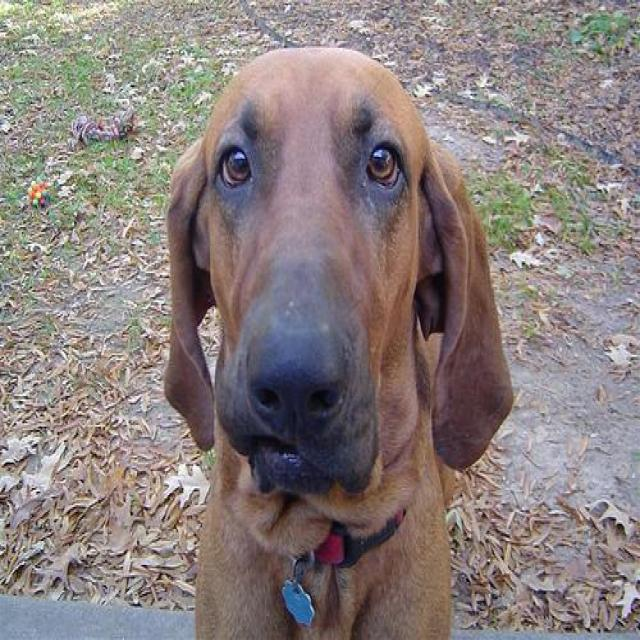bloodhound: (160, 46, 513, 637)
